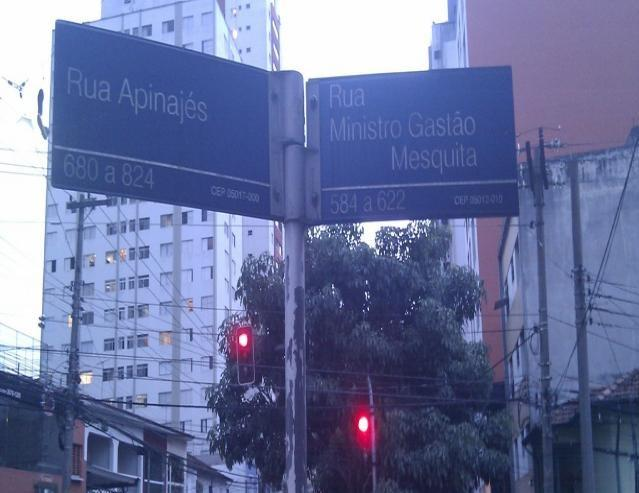red_light: (236, 326, 253, 384)
